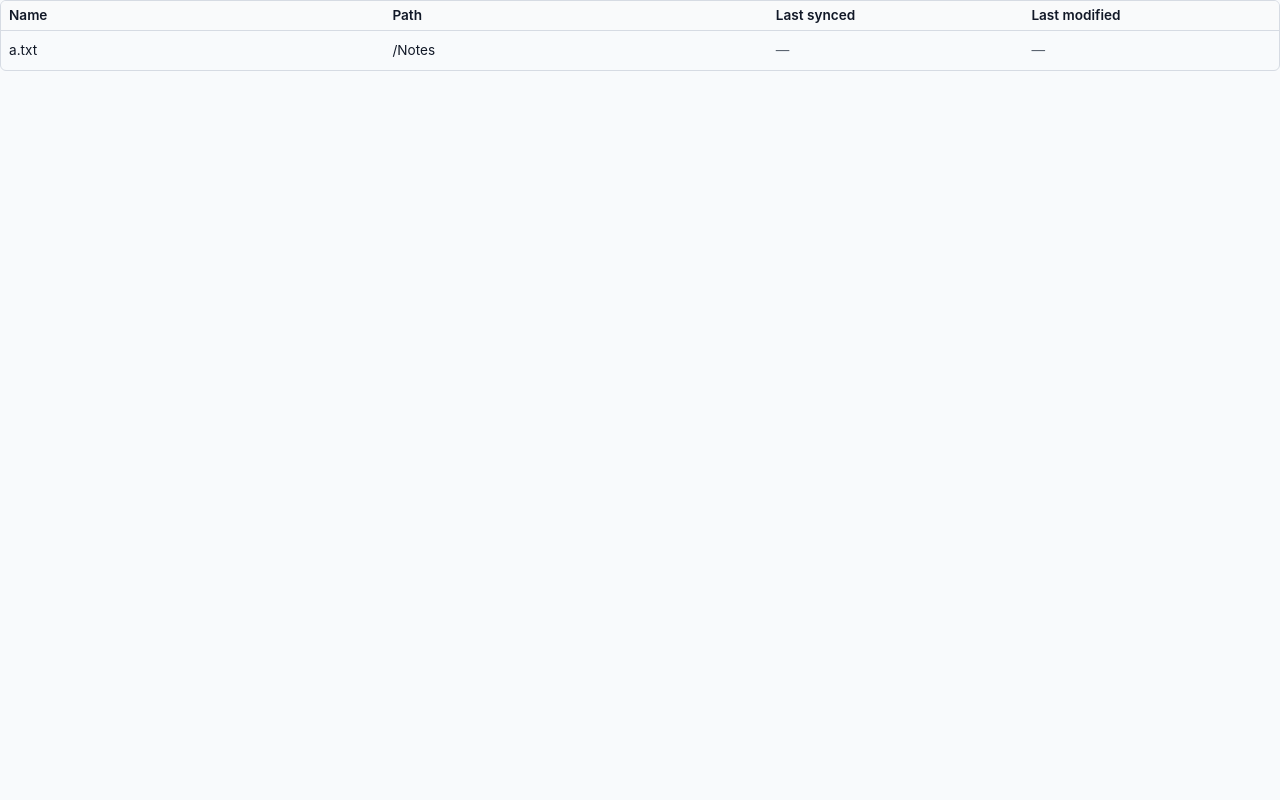
it: DropboxRecentFiles row menu › right-click opens the menu; an outside click closes it
The width and height of the screenshot is (1280, 800).
Right-click the text "a.txt": (23, 50) [1,30,384,70]
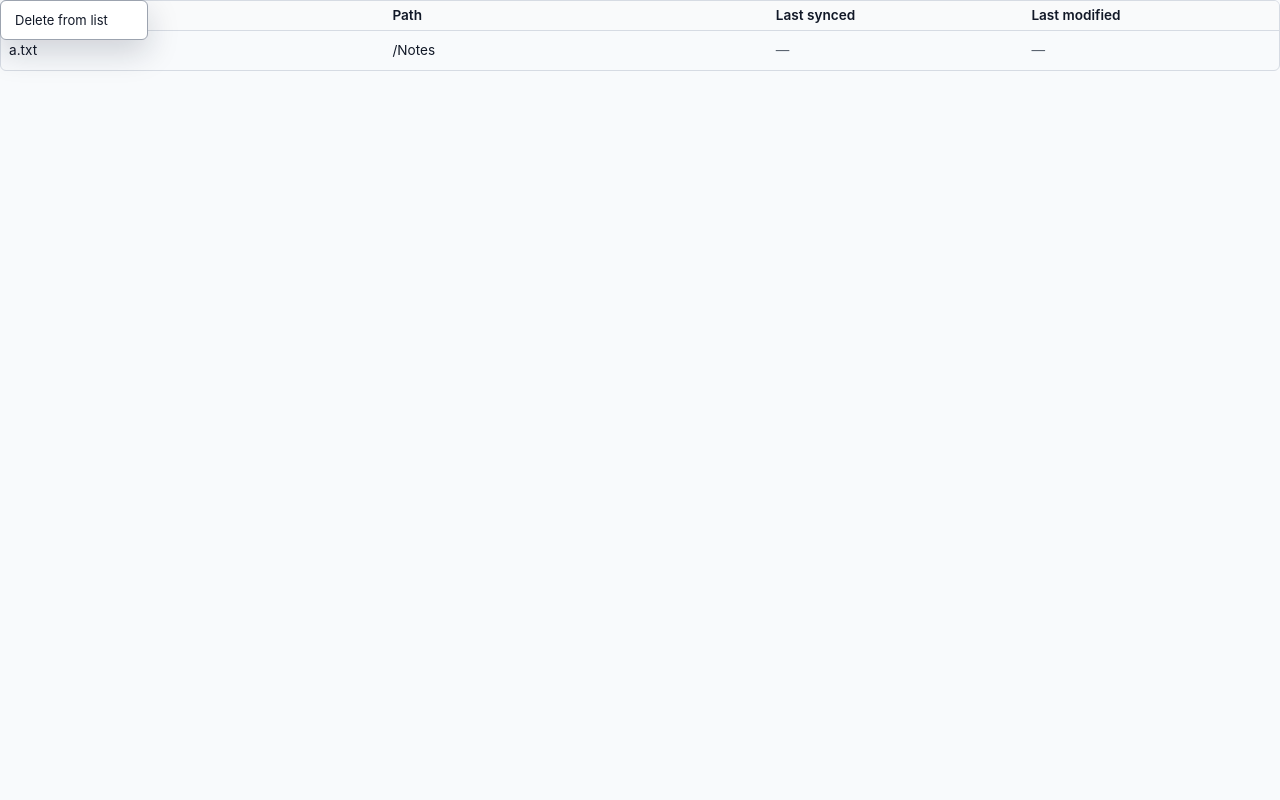
Expected: the menu item "Delete from list" is shown, [5,5,143,35]
Click the element that starts with "Name": (640, 400) [0,0,1279,799]
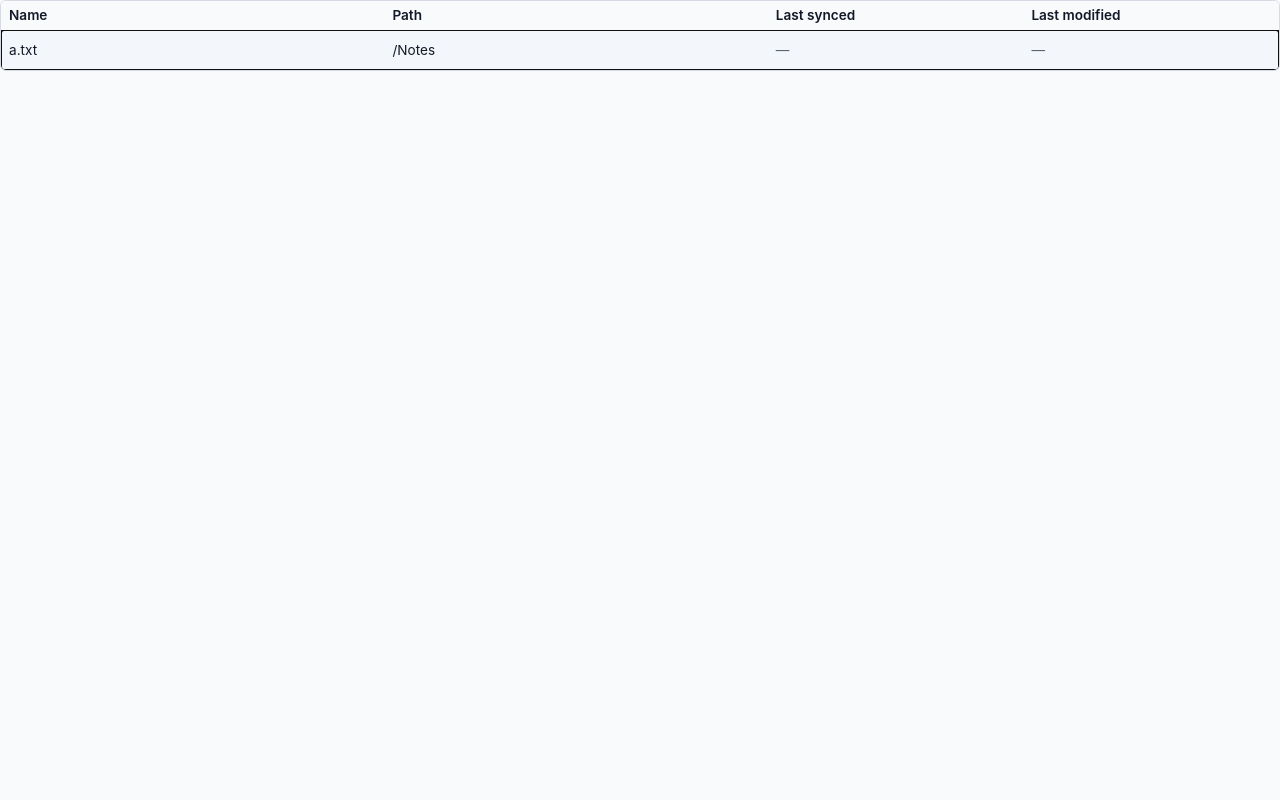
Expected: the menu item "Delete from list" is gone
